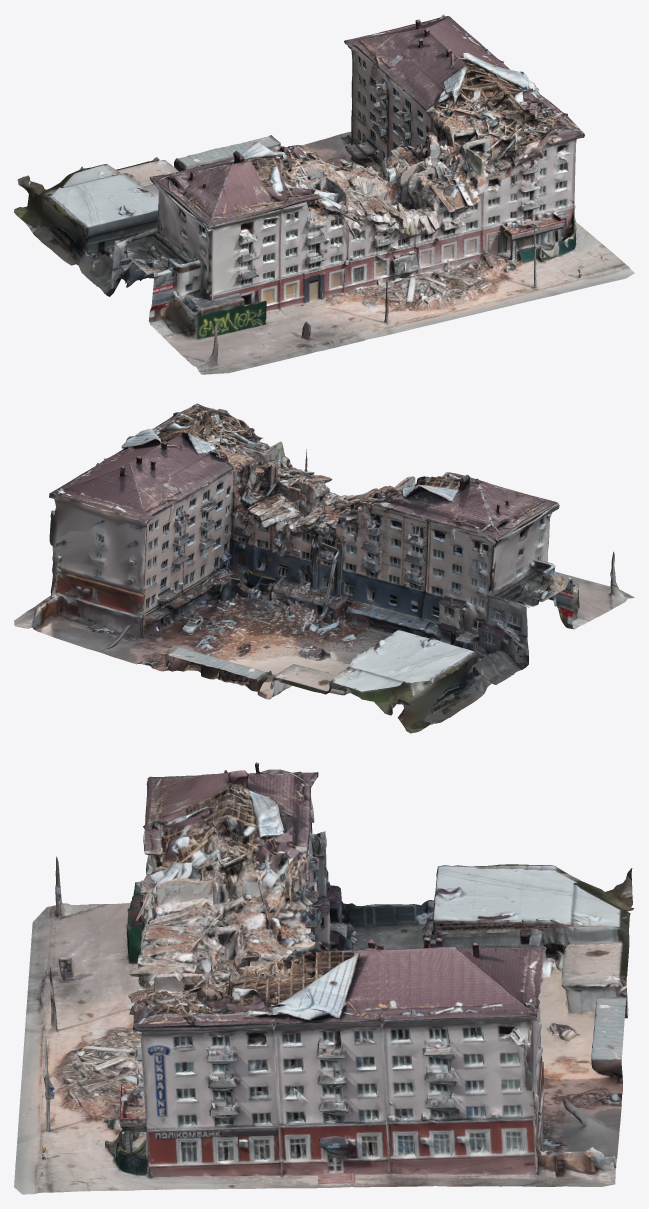
Rendered from hotel_ukraine_chernihiv_city.glb.
3 views of the same model, one above another, from view 1: azimuth 30°, elevation 25°; view 2: azimuth 150°, elevation 25°; view 3: azimuth 270°, elevation 25° (orthographic). The views are drawn at different scales.
Visible parts, largest first — view 1: Object_2; view 2: Object_2; view 3: Object_2.
Part boxes in pixels (x1=…): Object_2: x1=14, y1=14, x2=634, y2=374; Object_2: x1=14, y1=403, x2=634, y2=733; Object_2: x1=14, y1=762, x2=634, y2=1194.
Bounding box in the file's own units: 41.67 × 14.45 × 36.46.
Materials: 1 (1 with a texture image).
